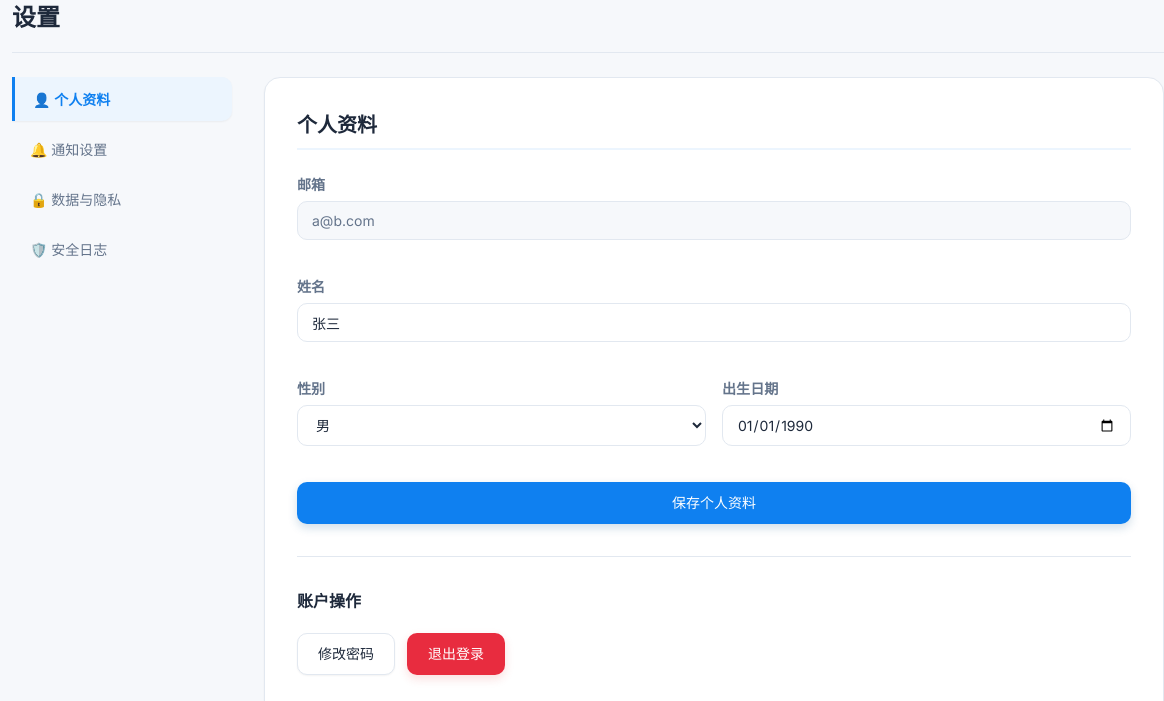
Test: Settings › 修改密码 › 成功修改密码后关闭表单并显示 toast
Click the button "修改密码": (346, 654) [297,633,395,675]
(page scrolled)
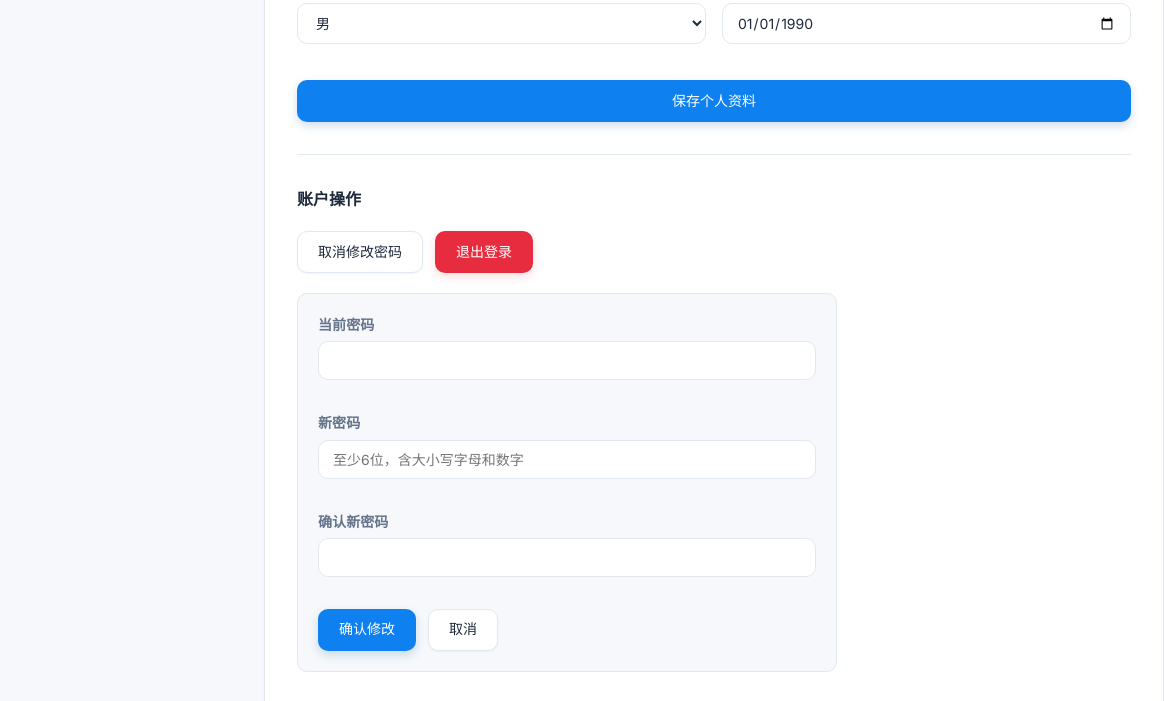
In the password field below "当前密码": (567, 361) [318,341,816,380], type "OldPass1!"
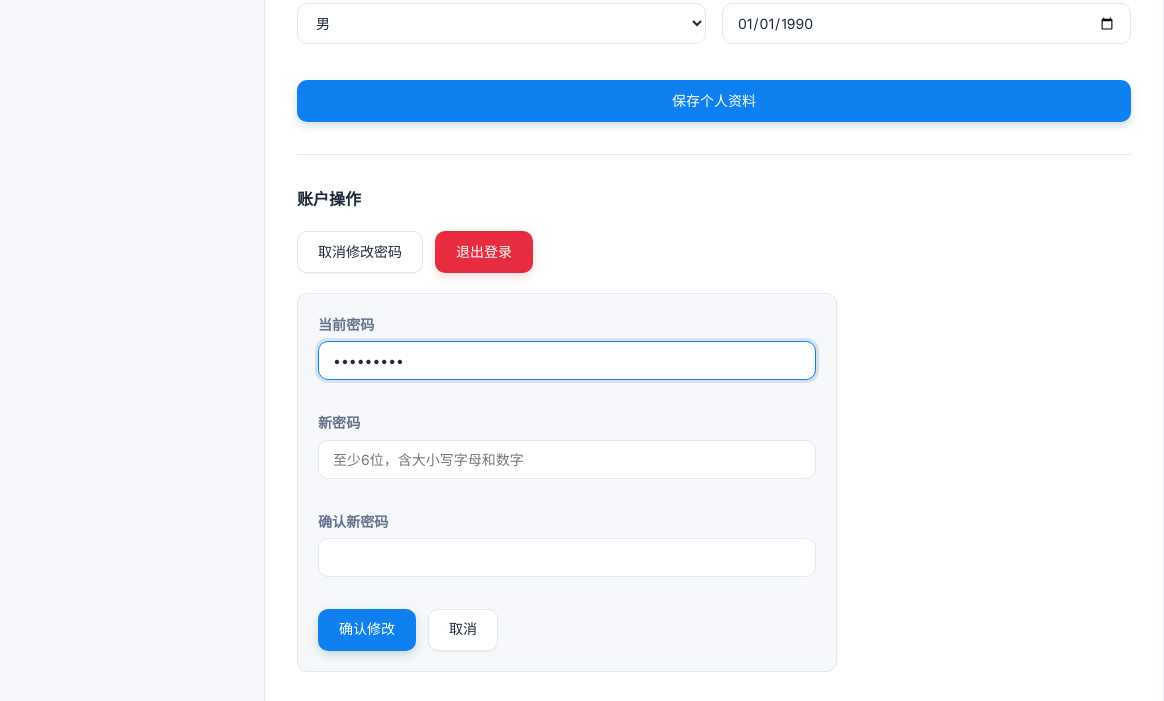
In the password field with placeholder "至少6位，含大小写字母和数字": (567, 459) [318,440,816,478], type "NewPass1!"
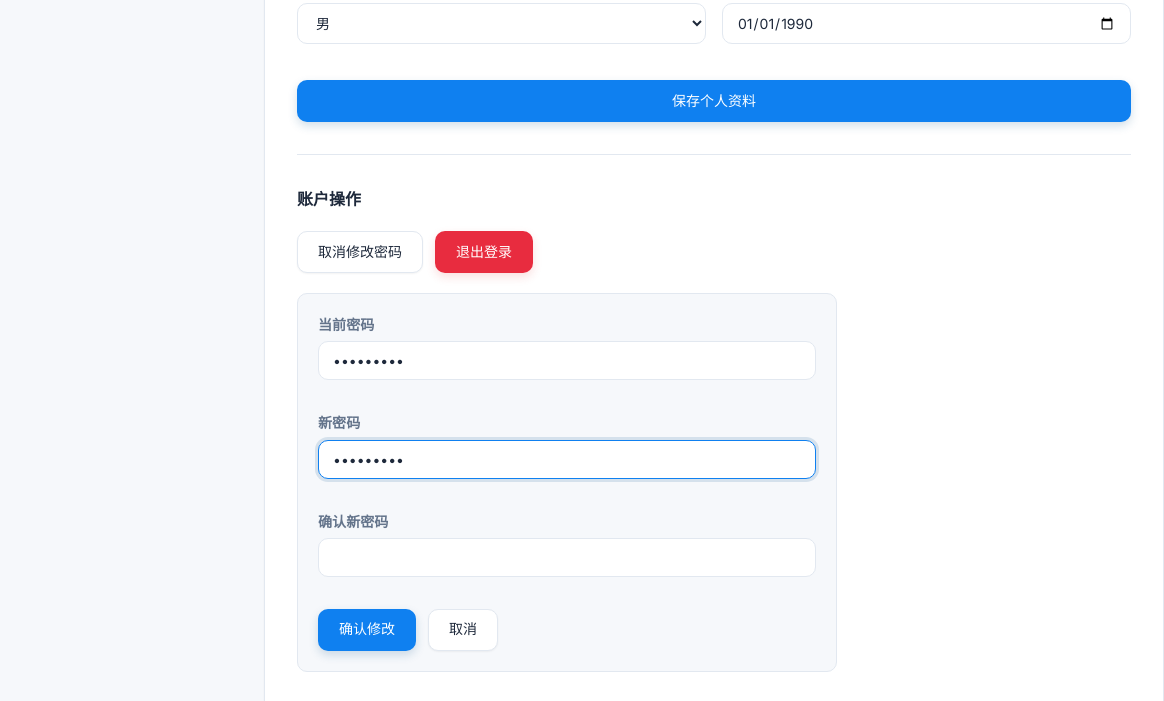
In the password field below "确认新密码": (567, 557) [318,538,816,577], type "NewPass1!"
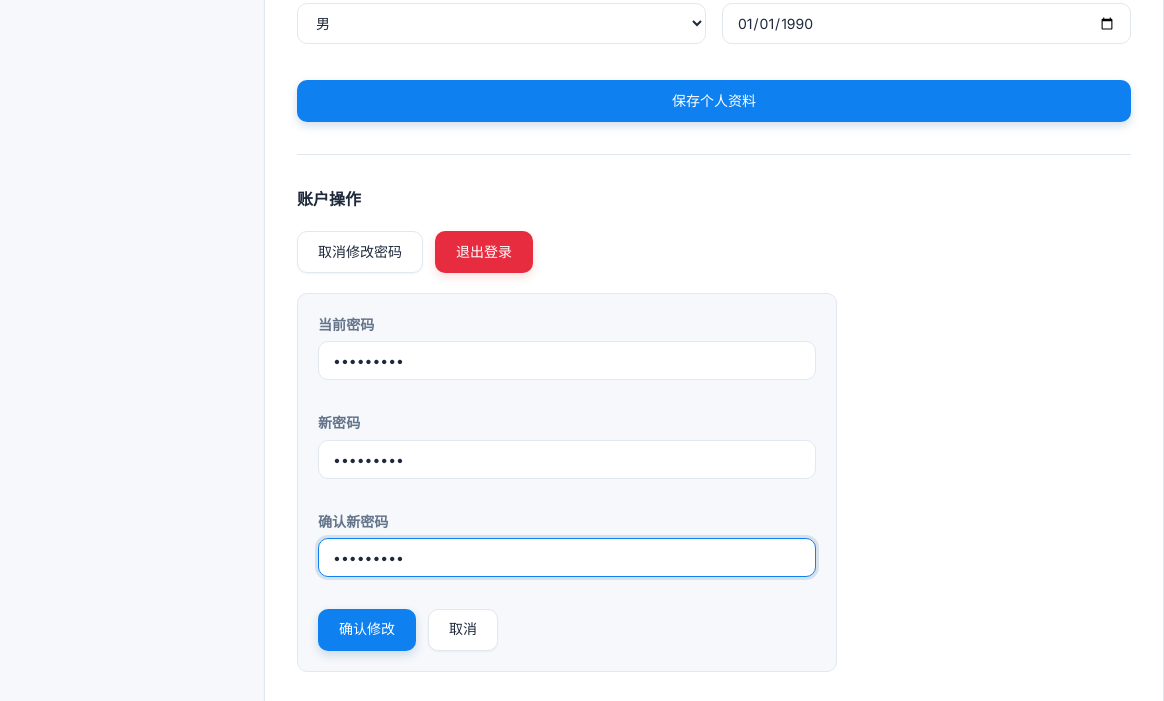
Click the button "确认修改": (367, 630) [318,609,416,651]
(page scrolled)
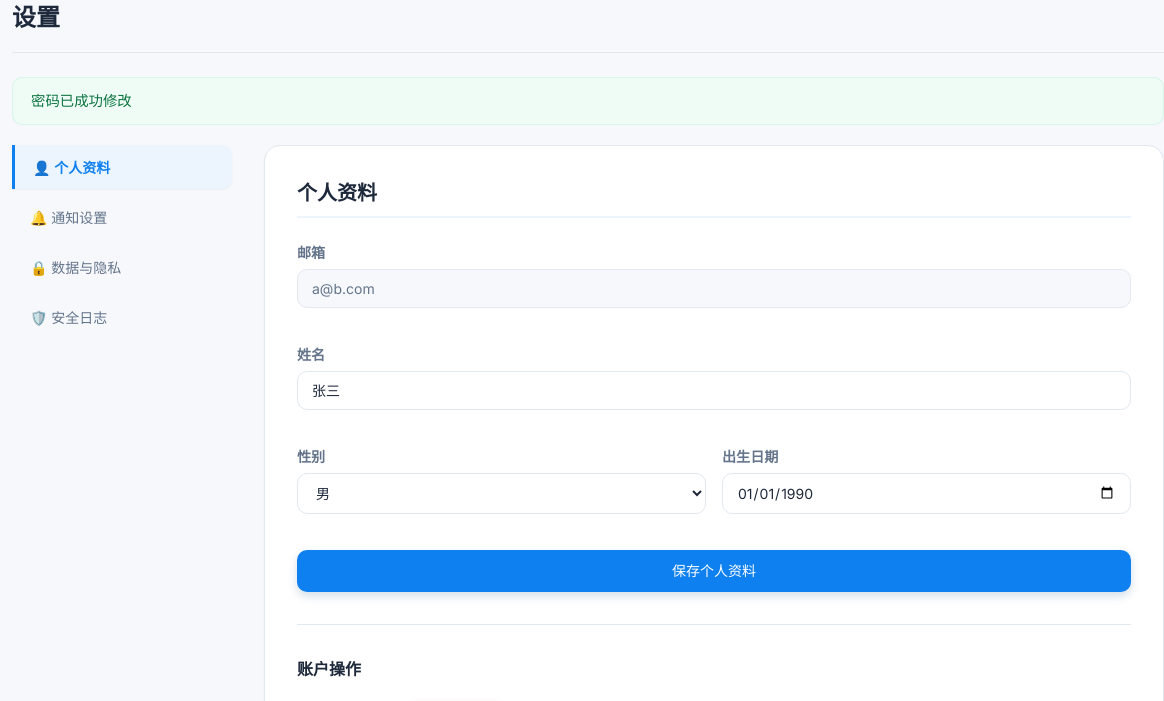
Expected: the text "密码已成功修改" is shown, [12,77,1163,125]
Expected: the button "确认修改" is gone
